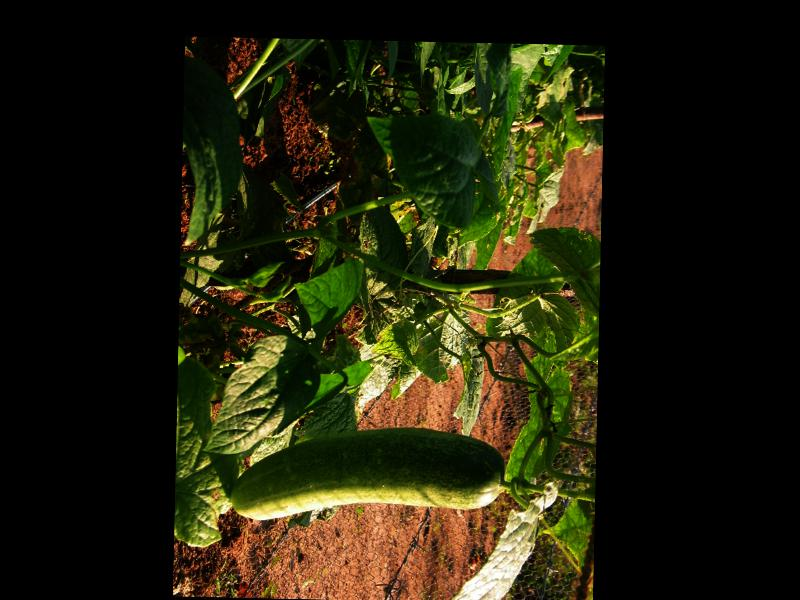Cucumber: (230, 424, 504, 524)
